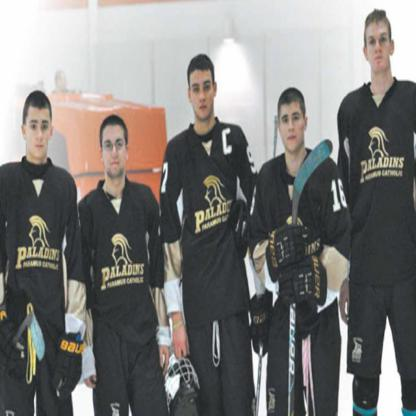face: (365, 19, 392, 75), (26, 106, 52, 162), (191, 69, 216, 121), (103, 125, 127, 175), (280, 103, 303, 154)
